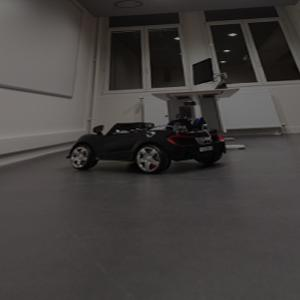big: (65, 117, 227, 175)
